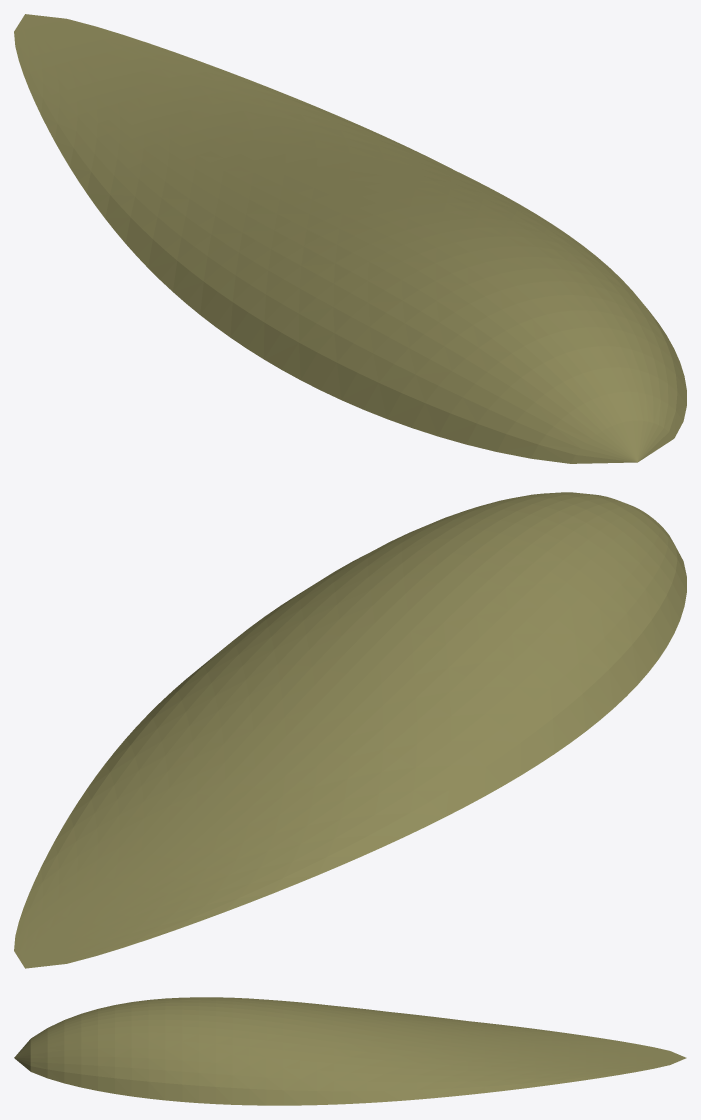
The picture shows the model from 3 angles, top to bottom: view 1: azimuth 30°, elevation 25°; view 2: azimuth 150°, elevation 25°; view 3: azimuth 270°, elevation 25°; orthographic projection. The views are drawn at different scales.
Parts seen in each view (by area): view 1: rounded_low_asymmetric_till_mound; view 2: rounded_low_asymmetric_till_mound; view 3: rounded_low_asymmetric_till_mound.
Part boxes in pixels (x1=…): rounded_low_asymmetric_till_mound: x1=14, y1=14, x2=686, y2=463; rounded_low_asymmetric_till_mound: x1=14, y1=492, x2=686, y2=968; rounded_low_asymmetric_till_mound: x1=14, y1=997, x2=686, y2=1105.
Size of the model in its own units: 151 by 35.59 by 450.
